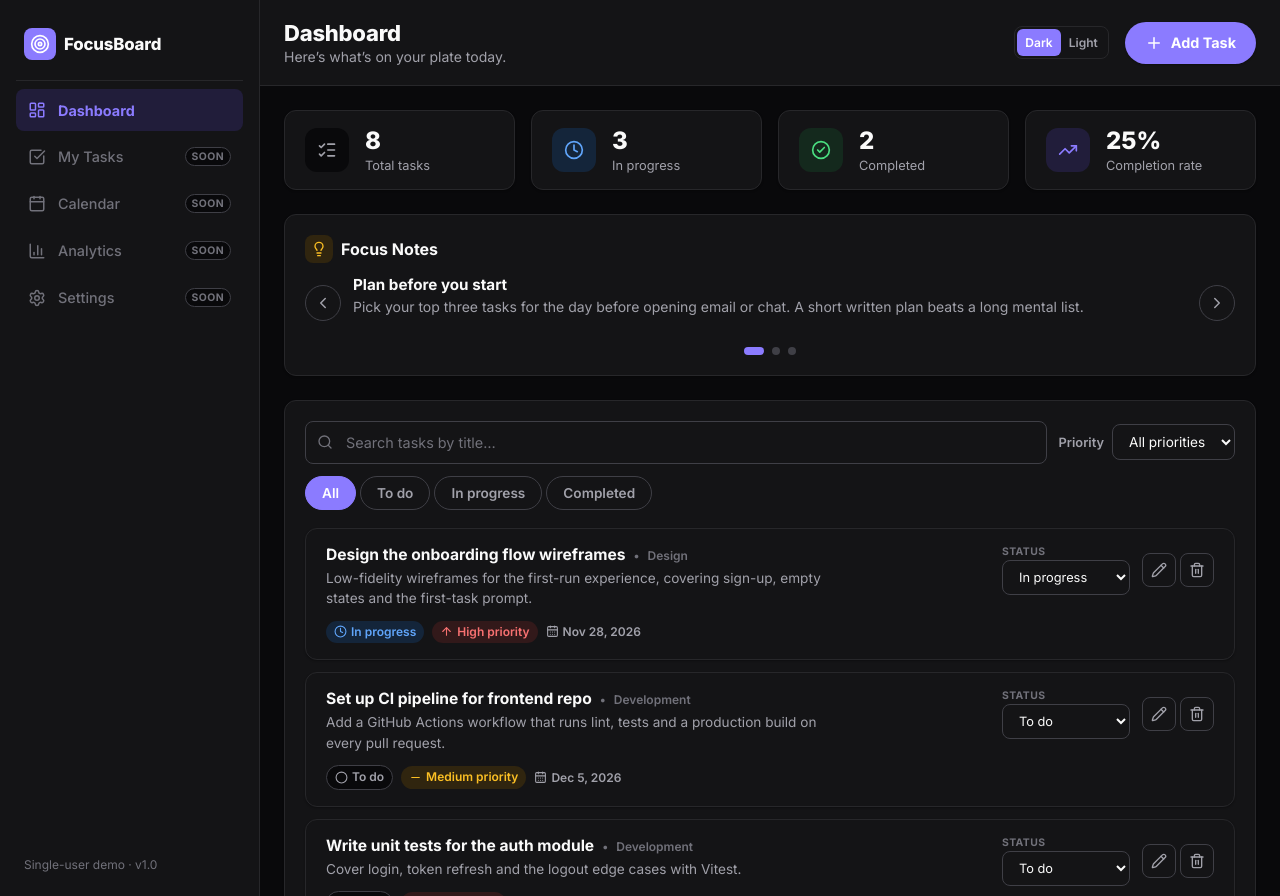
Test: FocusBoard App › shows a no-matching-tasks empty state and clears it on reset
Type "zzz-no-such-task" into the field labelled "Search tasks by title…" at coordinates (676, 442), box [305,421,1047,464]
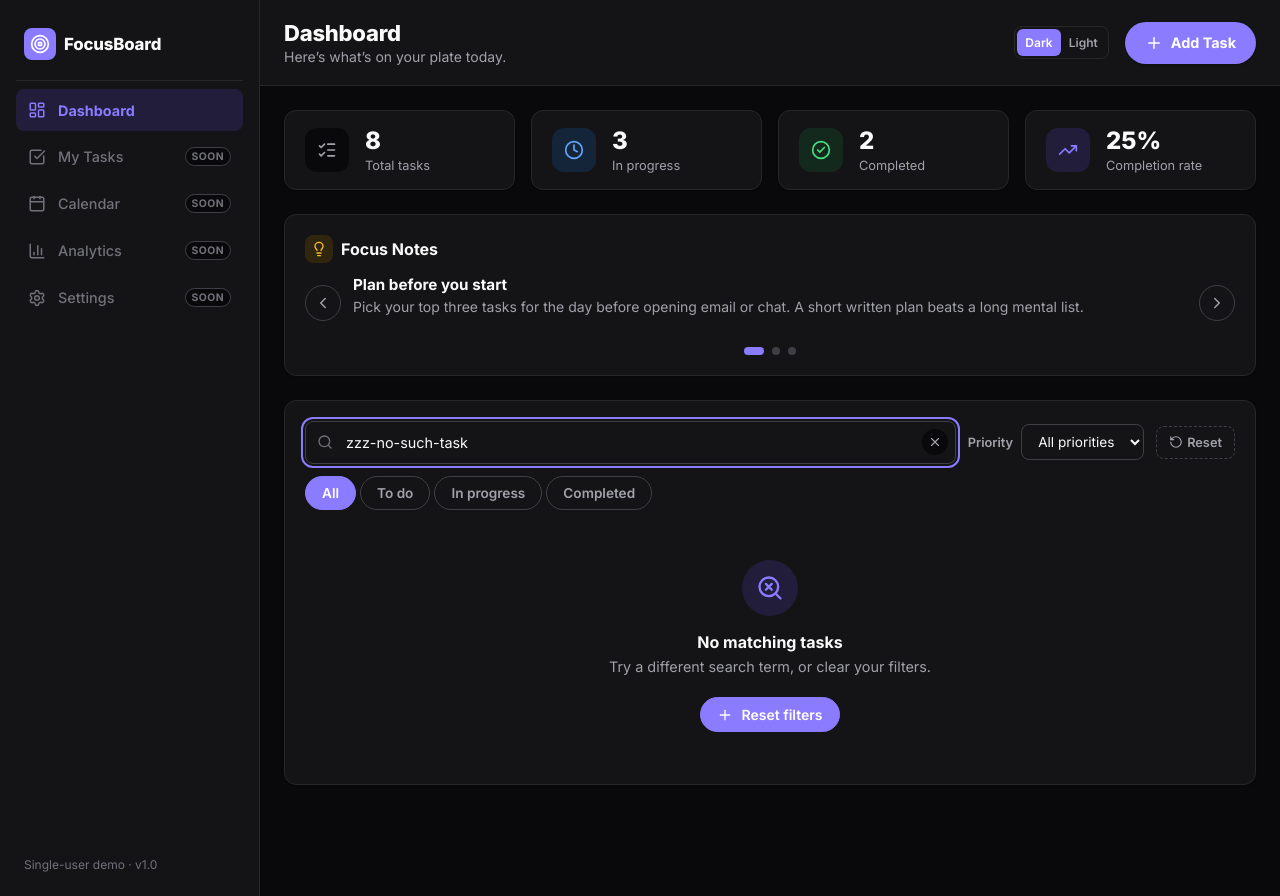
Now the text "No matching tasks" is shown, box [697,632,843,652]
Click the button "Reset filters" at coordinates (770, 715), box [700,697,840,732]
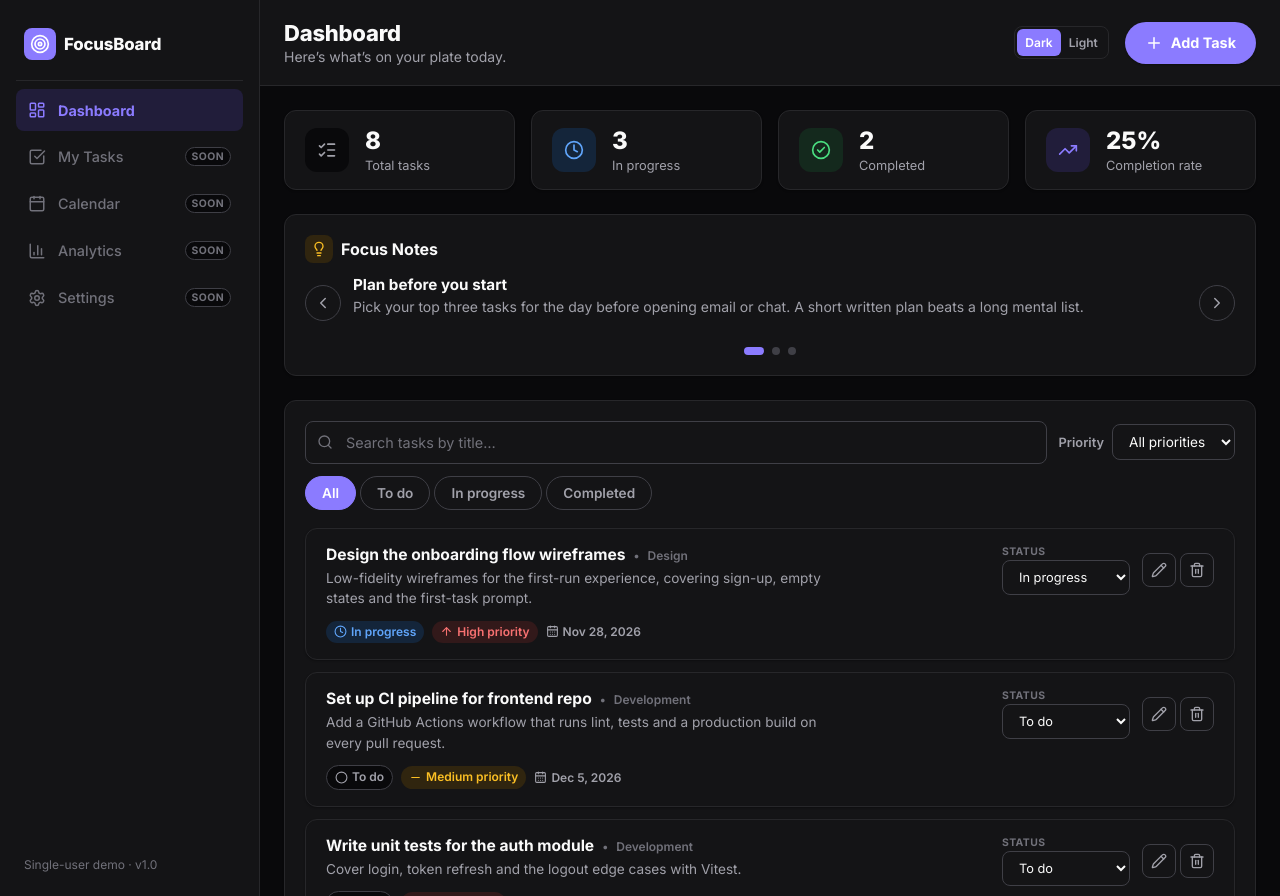
Now the text "No matching tasks" is gone
